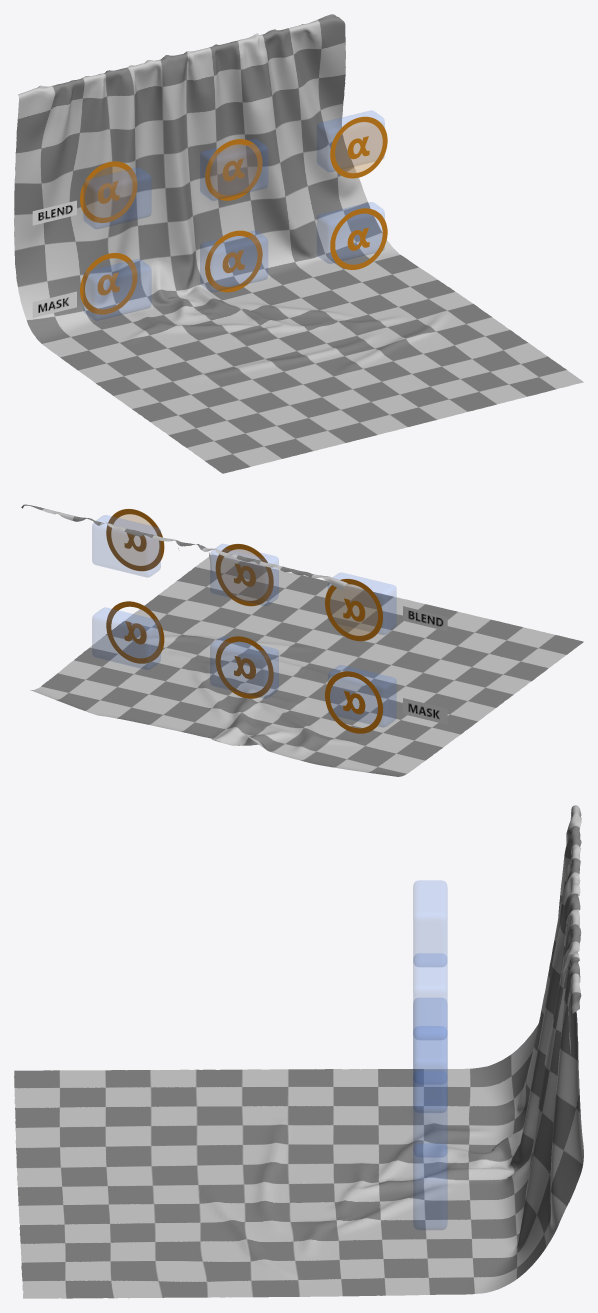
Rendered from TransmissionOrderTest.gltf.
The picture shows the model from 3 angles, top to bottom: view 1: azimuth 30°, elevation 25°; view 2: azimuth 150°, elevation 25°; view 3: azimuth 270°, elevation 25°; orthographic projection. The views are drawn at different scales.
Parts seen in each view (by area): view 1: Cloth Backdrop, Glass.001, Glass.004, Glass, Glass.003, AlphaBlend.002, AlphaBlend.001, AlphaBlend, Glass.002, Glass.005, Labels, AlphaMask (+2 smaller); view 2: Cloth Backdrop, Glass.002, Glass, Glass.005, Glass.003, AlphaBlend.001, AlphaBlend, AlphaBlend.002, Glass.001, Glass.004, Labels, AlphaMask.002 (+2 smaller); view 3: Cloth Backdrop, Glass.005, Glass.002, Glass.003, Glass.004, Glass, Glass.001.
Boxes of the visible parts, <box> form: Cloth Backdrop: <box>14,14,583,473</box>; Glass.001: <box>83,259,151,320</box>; Glass.004: <box>83,167,151,228</box>; Glass: <box>200,231,267,291</box>; Glass.003: <box>200,139,267,200</box>; AlphaBlend.002: <box>330,116,387,178</box>; AlphaBlend.001: <box>80,161,137,222</box>; AlphaBlend: <box>205,139,262,200</box>; Glass.002: <box>317,202,384,263</box>; Glass.005: <box>317,110,384,171</box>; Labels: <box>32,200,76,317</box>; AlphaMask: <box>205,230,262,292</box>; Cloth Backdrop: <box>21,504,583,776</box>; Glass.002: <box>92,607,160,669</box>; Glass: <box>210,636,278,698</box>; Glass.005: <box>92,515,160,577</box>; Glass.003: <box>210,544,278,605</box>; AlphaBlend.001: <box>325,579,382,641</box>; AlphaBlend: <box>215,544,273,606</box>; AlphaBlend.002: <box>106,509,164,571</box>; Glass.001: <box>328,665,396,727</box>; Glass.004: <box>328,573,396,634</box>; Labels: <box>403,606,447,724</box>; AlphaMask.002: <box>106,601,164,663</box>; Cloth Backdrop: <box>14,805,583,1298</box>; Glass.005: <box>413,1026,447,1112</box>; Glass.002: <box>413,1143,447,1229</box>; Glass.003: <box>413,953,447,1039</box>; Glass.004: <box>413,880,447,966</box>; Glass: <box>413,1071,447,1156</box>; Glass.001: <box>413,998,446,1076</box>.
Size of the model in its own units: 6.73 by 3.57 by 6.61.
Materials: 5 (4 with a texture image).
